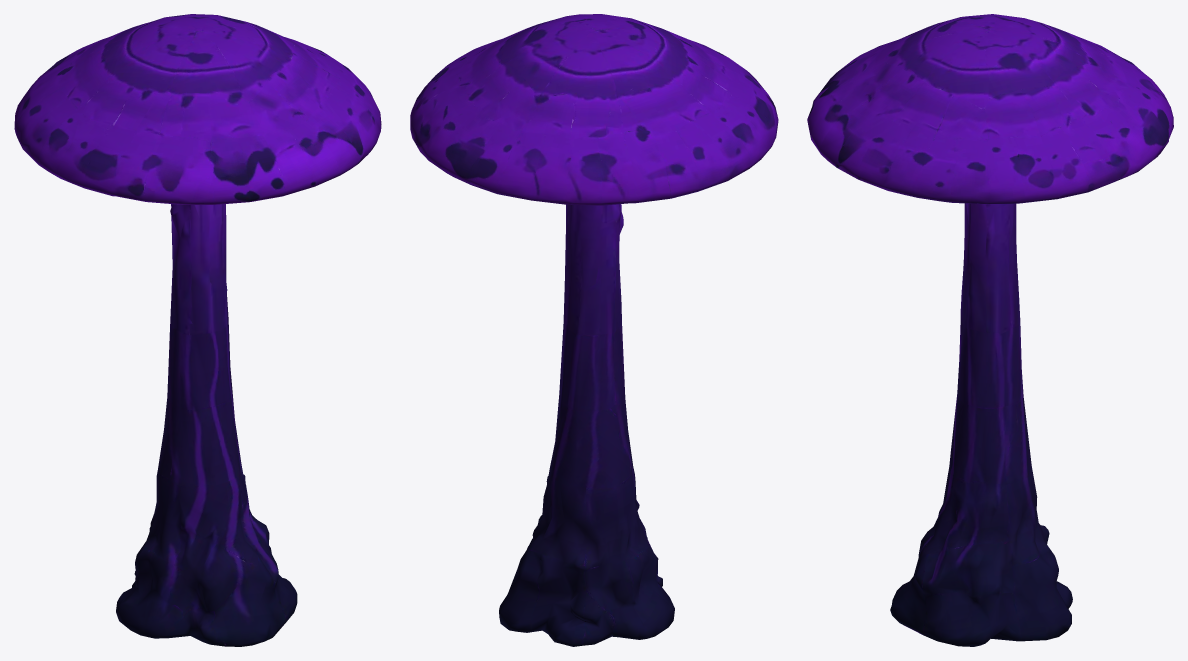
The model's file is purple-mushroom.glb.
3 views of the same model, side by side, from view 1: azimuth 30°, elevation 25°; view 2: azimuth 150°, elevation 25°; view 3: azimuth 270°, elevation 25° (orthographic).
Size of the model in its own units: 1.09 by 1.9 by 1.09.
Materials: 1 (1 with a texture image).
